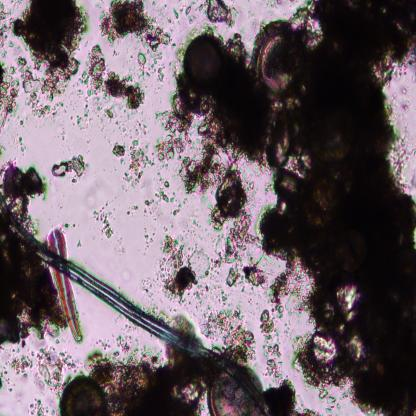Background material: (170, 0, 416, 415), (89, 344, 205, 416), (12, 0, 80, 118), (0, 232, 62, 344), (82, 48, 143, 118), (98, 0, 172, 52), (220, 213, 268, 292), (160, 234, 213, 301), (199, 302, 257, 362), (210, 153, 251, 226), (152, 105, 196, 165), (0, 161, 42, 222), (182, 138, 224, 198), (31, 343, 75, 394), (256, 308, 284, 384), (268, 260, 306, 312), (265, 378, 317, 414), (115, 139, 154, 186), (144, 179, 181, 216), (0, 65, 20, 130), (50, 154, 88, 180), (139, 50, 167, 83), (91, 202, 116, 238), (198, 0, 237, 23), (7, 352, 34, 381), (0, 0, 13, 58), (131, 119, 150, 144), (318, 388, 336, 414), (141, 276, 157, 304), (141, 229, 152, 254), (185, 4, 196, 26), (18, 132, 27, 157), (124, 201, 138, 215), (72, 235, 84, 248), (171, 5, 180, 22)
Diatom: (47, 228, 82, 340), (255, 21, 300, 98), (209, 363, 264, 415), (181, 34, 228, 93), (59, 376, 106, 414)
Microfibre: (0, 208, 244, 383)
